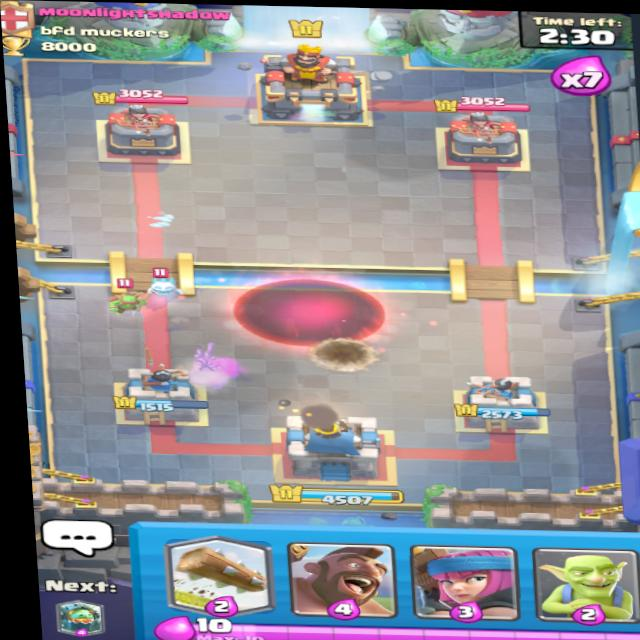ice-spirit: (135, 263, 181, 300)
spear-goblin: (104, 289, 152, 318)
void: (223, 277, 387, 348)
